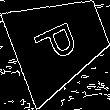P_NE: (33, 15, 87, 69)
